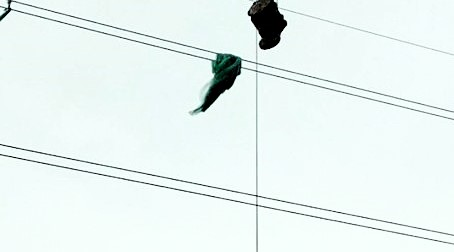wire foreign body: (187, 46, 244, 119)
